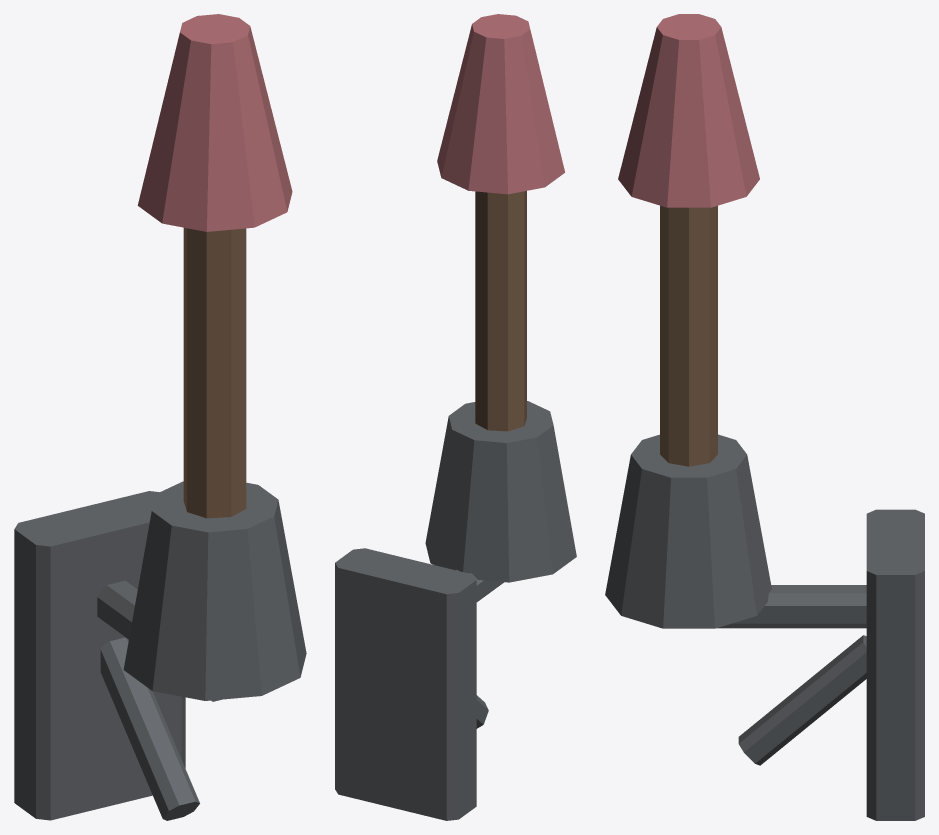
File: torch_sconce.glb
The picture shows the model from 3 angles, left to right: view 1: azimuth 30°, elevation 25°; view 2: azimuth 150°, elevation 25°; view 3: azimuth 270°, elevation 25°; orthographic projection. The views are drawn at different scales.
Visible parts, largest first — view 1: torch_sconce; view 2: torch_sconce; view 3: torch_sconce.
Boxes of the visible parts, x1,y1,x2,y2 form: torch_sconce: (14, 14, 306, 820); torch_sconce: (335, 14, 576, 820); torch_sconce: (605, 14, 924, 820).
Size of the model in its own units: 0.2473 by 1.3 by 0.495.
